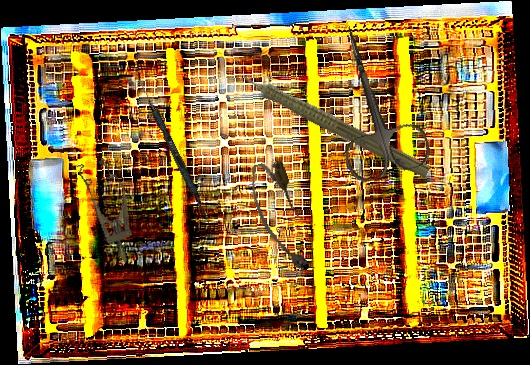Cannula: (244, 156, 317, 279)
Handpiece: (226, 58, 435, 182)
Iris Scissors: (310, 14, 434, 186)
Spatula Surgical: (130, 71, 216, 226)
Speculum: (75, 153, 145, 269)
